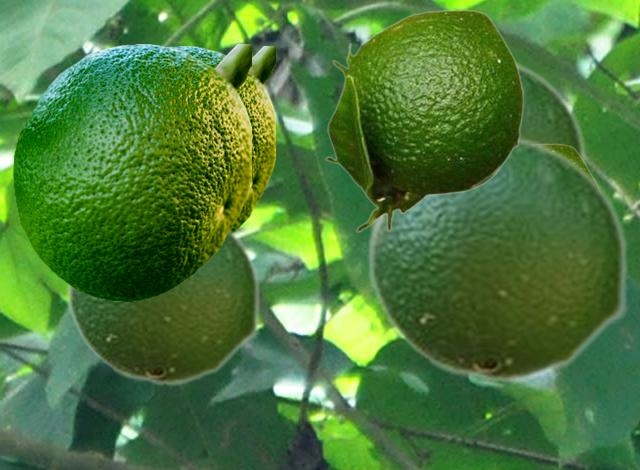dalandan: (366, 133, 628, 384), (13, 44, 250, 300), (324, 9, 523, 232), (66, 229, 260, 386), (168, 46, 274, 231), (515, 57, 586, 162)
